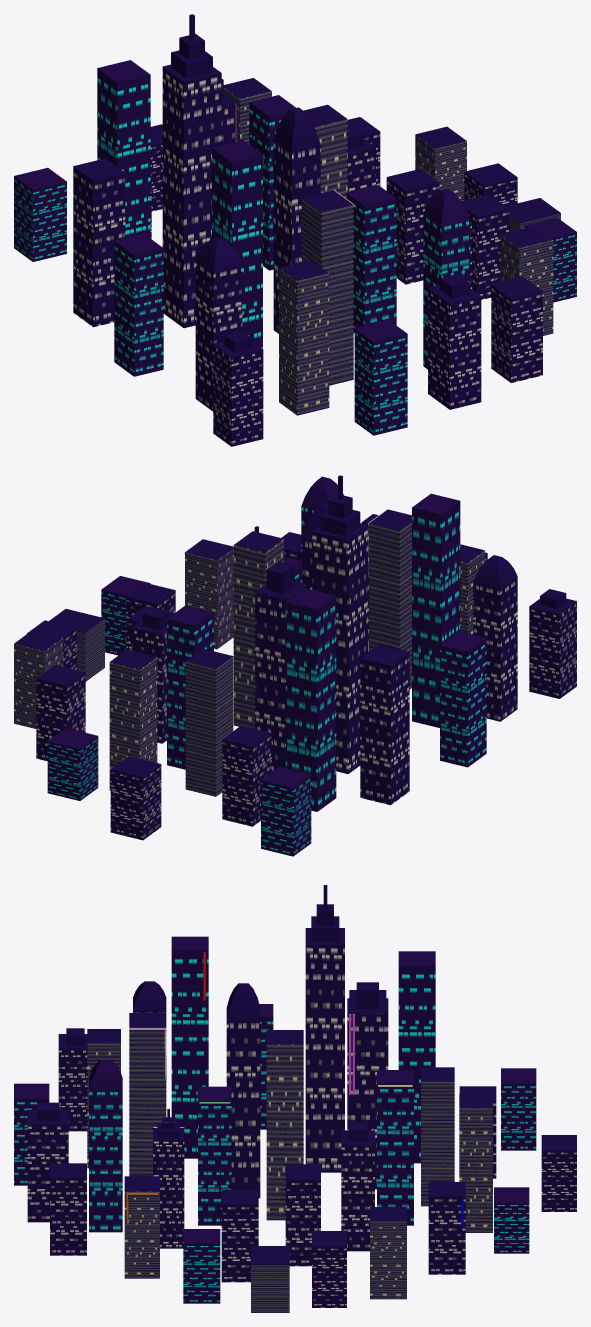
The model's file is City_new.glb.
3 renders of one model, top to bottom at view 1: azimuth 30°, elevation 25°; view 2: azimuth 150°, elevation 25°; view 3: azimuth 270°, elevation 25°, orthographic. The views are drawn at different scales.
Parts seen in each view (by area): view 1: Step-top.001, Flat-top.008, Flat-top.007, Flat-top.003, Flat-top.004, Flat-top.009, Flat-top.002, Block-top.001, Round-top.001, Flat-top, Flat-top.015, Round-top.002 (+18 smaller); view 2: Flat-top.003, Step-top.001, Flat-top.004, Flat-top.008, Flat-top.010, Flat-top.009, Flat-top.002, Block-top.002, Round-top.002, Flat-top.006, Flat-top.005, Block-top.003 (+16 smaller); view 3: Step-top.001, Flat-top.004, Round-top.001, Flat-top.006, Round-top, Flat-top.002, Flat-top.003, Flat-top.001, Block-top.002, Flat-top.005, Flat-top, Flat-top.010 (+21 smaller).
Boxes of the visible parts, bbox=[...] form: Step-top.001: bbox=[162, 14, 221, 328]; Flat-top.008: bbox=[73, 158, 125, 327]; Flat-top.007: bbox=[279, 260, 329, 415]; Flat-top.003: bbox=[97, 60, 150, 238]; Flat-top.004: bbox=[212, 140, 262, 348]; Flat-top.009: bbox=[114, 233, 163, 376]; Flat-top.002: bbox=[301, 190, 353, 385]; Block-top.001: bbox=[428, 274, 481, 409]; Round-top.001: bbox=[273, 107, 320, 333]; Flat-top: bbox=[346, 185, 396, 333]; Flat-top.015: bbox=[354, 320, 407, 435]; Round-top.002: bbox=[195, 237, 242, 411]; Flat-top.003: bbox=[285, 588, 336, 811]; Step-top.001: bbox=[312, 475, 368, 773]; Flat-top.004: bbox=[412, 493, 460, 727]; Flat-top.008: bbox=[360, 644, 409, 805]; Flat-top.010: bbox=[185, 649, 233, 796]; Flat-top.009: bbox=[440, 631, 486, 767]; Flat-top.002: bbox=[369, 509, 411, 689]; Block-top.002: bbox=[255, 561, 306, 771]; Round-top.002: bbox=[473, 555, 517, 721]; Flat-top.006: bbox=[233, 531, 283, 728]; Flat-top.005: bbox=[109, 649, 157, 790]; Block-top.003: bbox=[529, 589, 576, 698]; Step-top.001: bbox=[305, 885, 344, 1172]; Flat-top.004: bbox=[171, 936, 208, 1158]; Round-top.001: bbox=[226, 983, 260, 1198]; Flat-top.006: bbox=[266, 1030, 303, 1220]; Round-top: bbox=[89, 1059, 122, 1232]; Flat-top.002: bbox=[129, 1013, 166, 1176]; Flat-top.003: bbox=[398, 951, 435, 1163]; Flat-top.001: bbox=[377, 1070, 413, 1225]; Block-top.002: bbox=[347, 982, 388, 1189]; Flat-top.005: bbox=[459, 1094, 492, 1232]; Flat-top: bbox=[198, 1086, 231, 1225]; Flat-top.010: bbox=[421, 1067, 454, 1206].
Bounding box in the file's own units: 36.64 × 24.28 × 44.38.
Materials: 12 (5 with a texture image).
